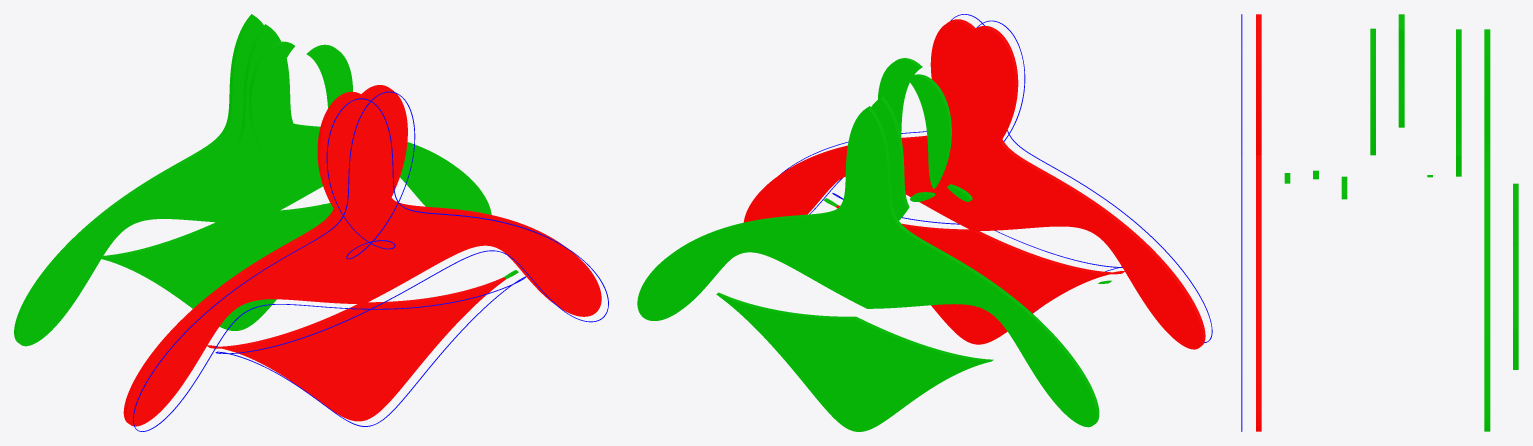
The model's file is Splitting.glb.
The picture shows the model from 3 angles, left to right: view 1: azimuth 30°, elevation 25°; view 2: azimuth 150°, elevation 25°; view 3: azimuth 270°, elevation 25°; orthographic projection. The views are drawn at different scales.
Bounding box in the file's own units: 1 × 0.6653 × 0.4859.
